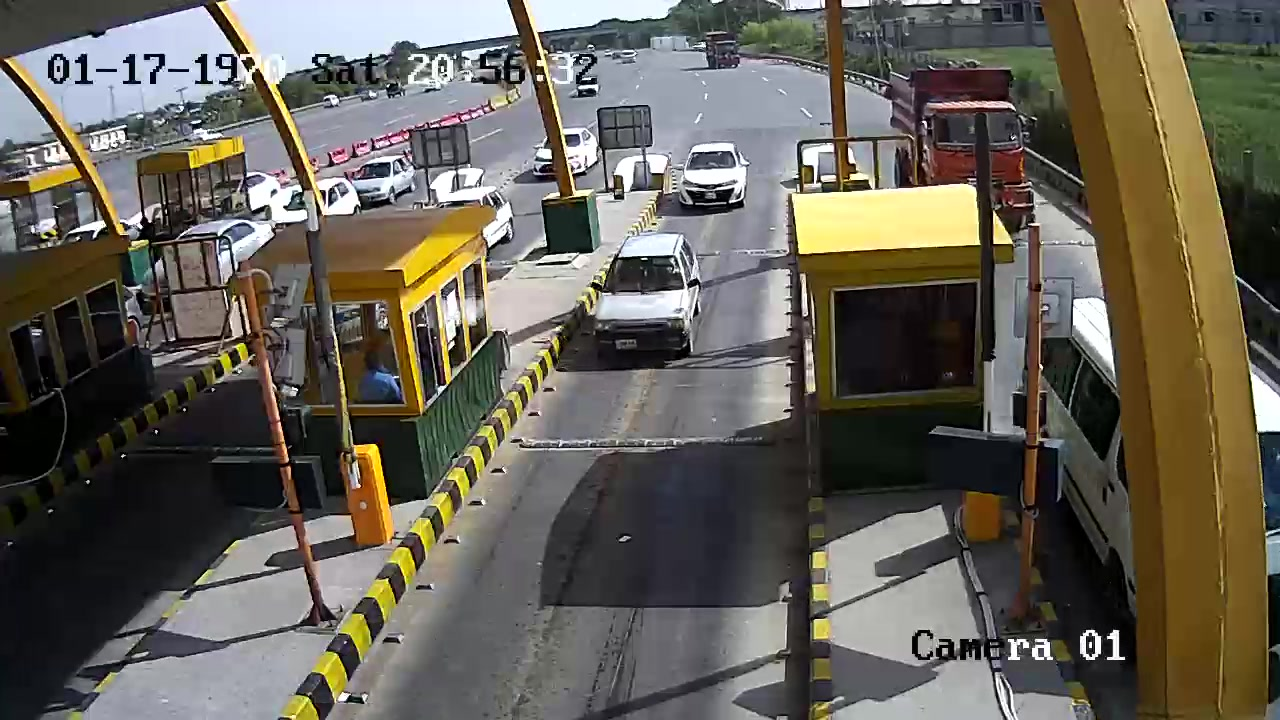F1: (590, 219, 713, 379)
